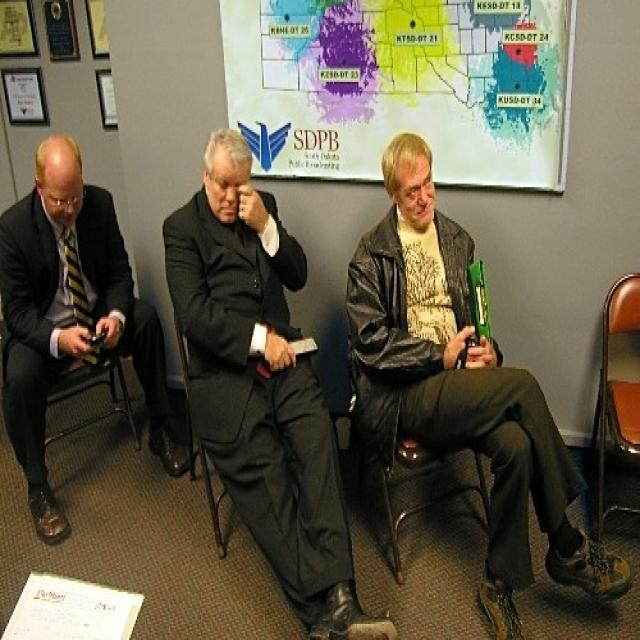chair: (358, 420, 493, 584), (585, 274, 639, 548), (173, 307, 228, 556), (3, 356, 142, 454)
